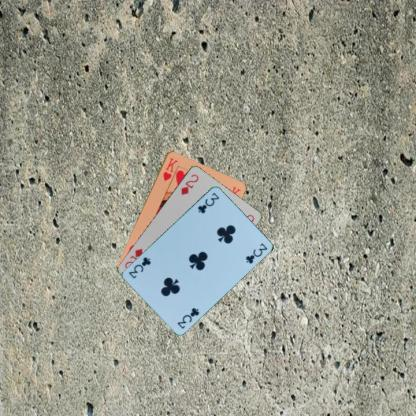2d: (178, 171, 200, 196)
3c: (174, 304, 200, 330), (194, 190, 220, 214)
Kh: (160, 155, 179, 182)
